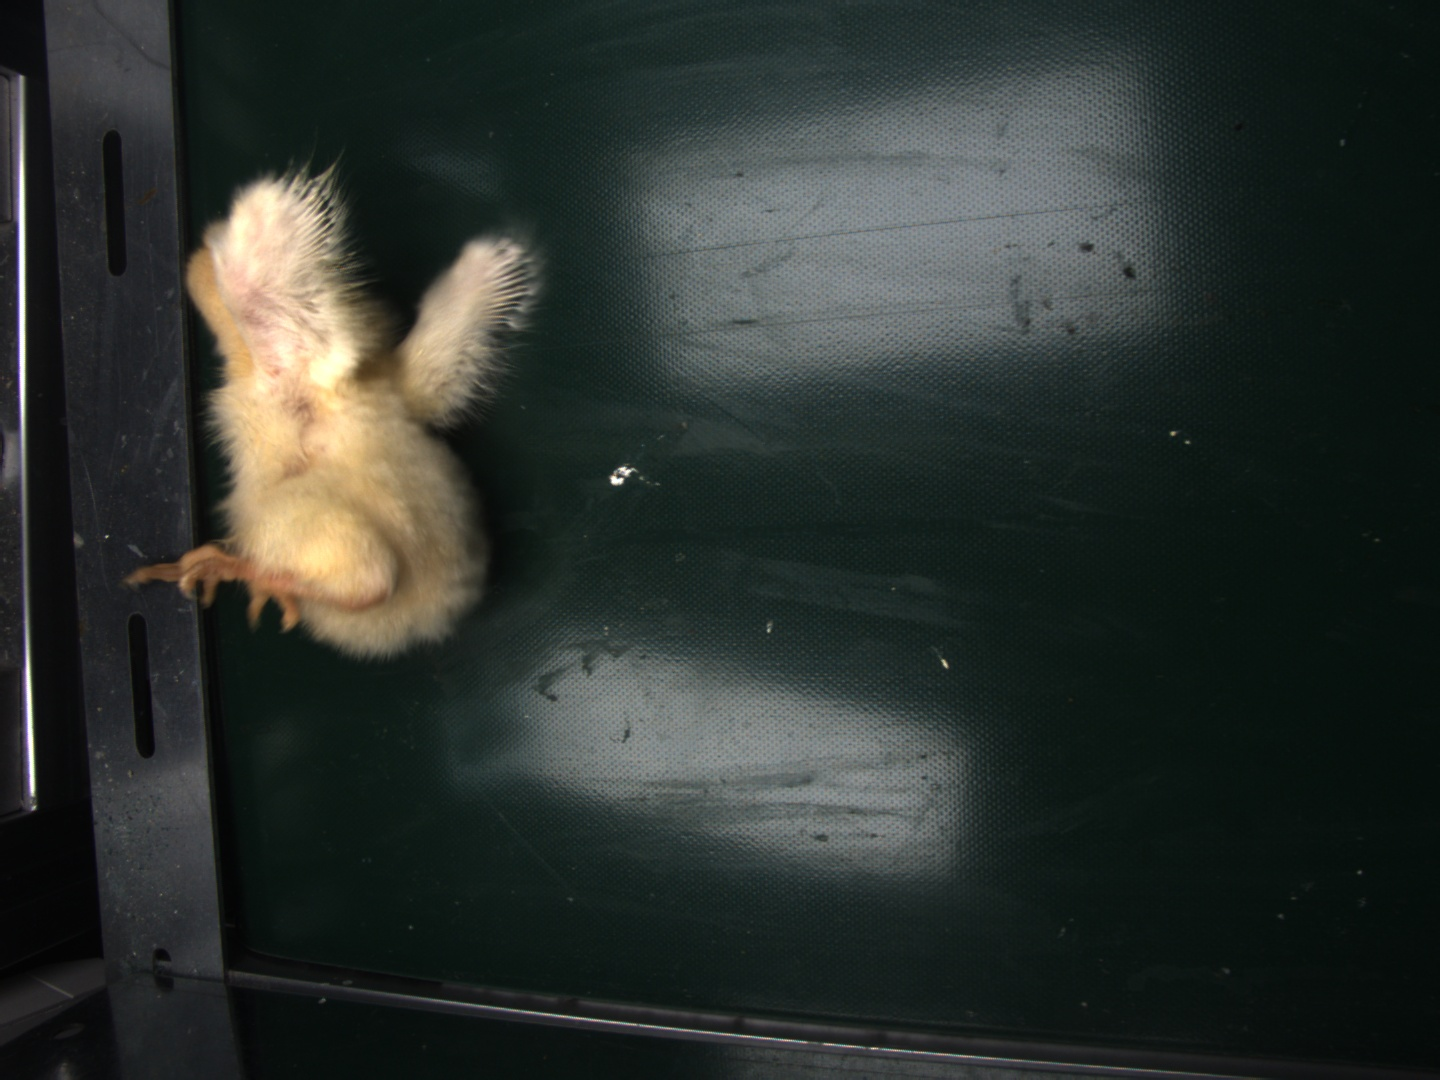male: (484, 236, 534, 322), (287, 174, 337, 256)
